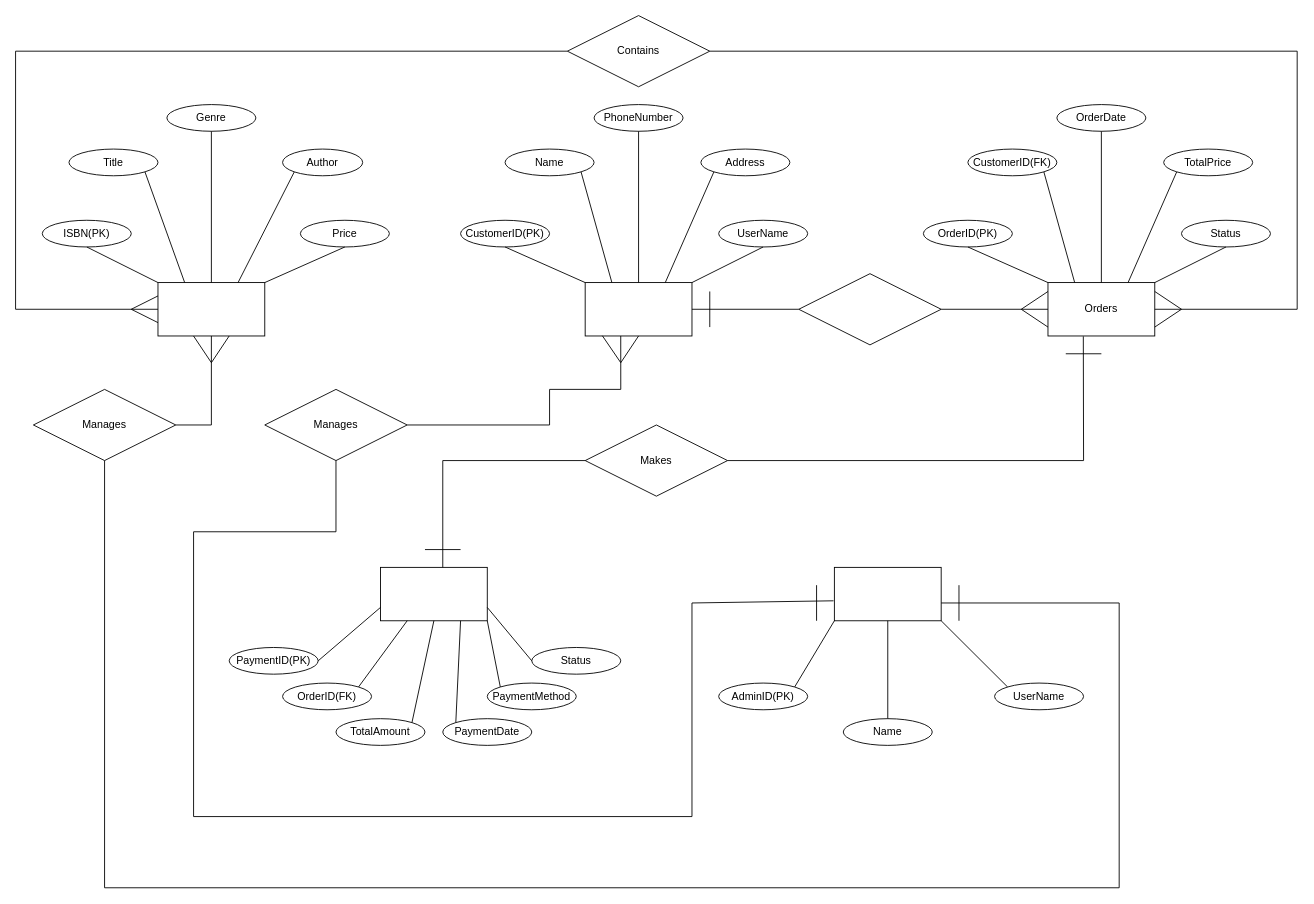
This 1314x904 diagram has some shape labels left out. Here are the shapes that lost their labels. From the top down, the centre of each, then its label:
the point at 211,309: Books
the point at 638,309: Customer
the point at 869,309: Places
the point at 433,593: Payment
the point at 887,593: Administrator
